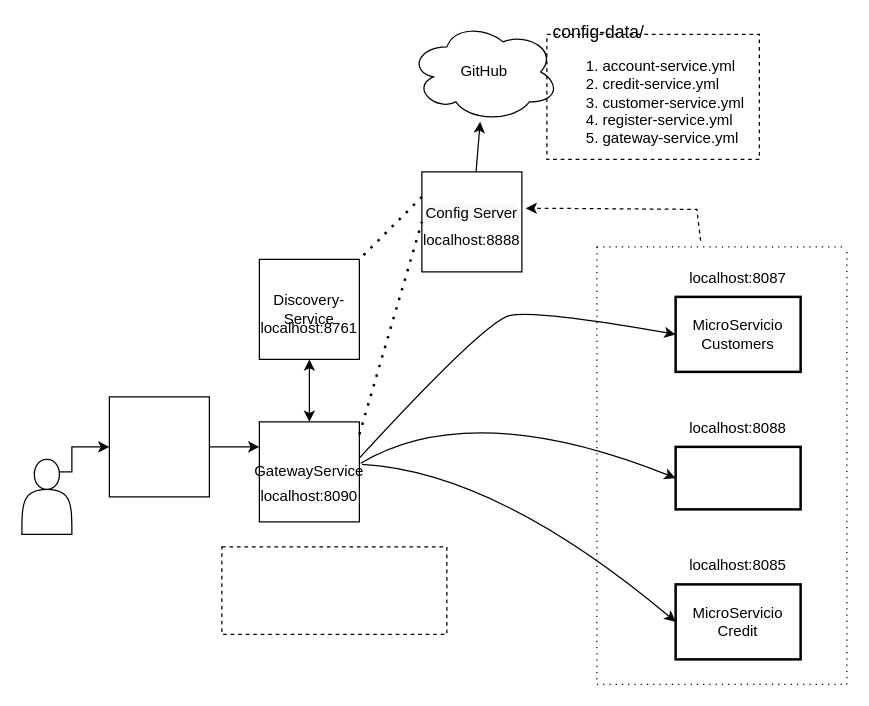
The diagram is 869 pixels wide and 706 high, and some of its shapes have lost their labels. The centre of each missing label's shape, as x and y in pixels:
"app Banco" belongs at (158,446).
"MicroServicio Accounts" belongs at (737,477).
"services: CUSTOMER-SERVICE ACCOUNT-SERVICE CREDIT-SERVICE" belongs at (334,590).
